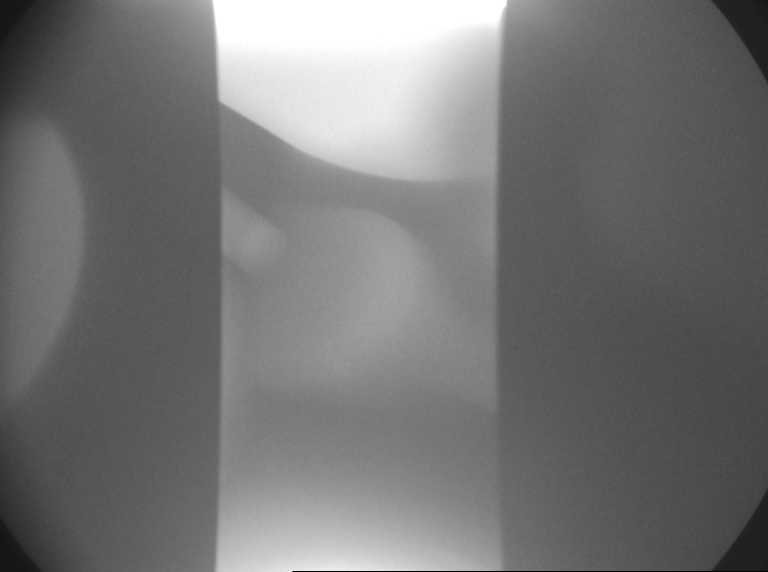defect: (318, 337, 354, 380)
